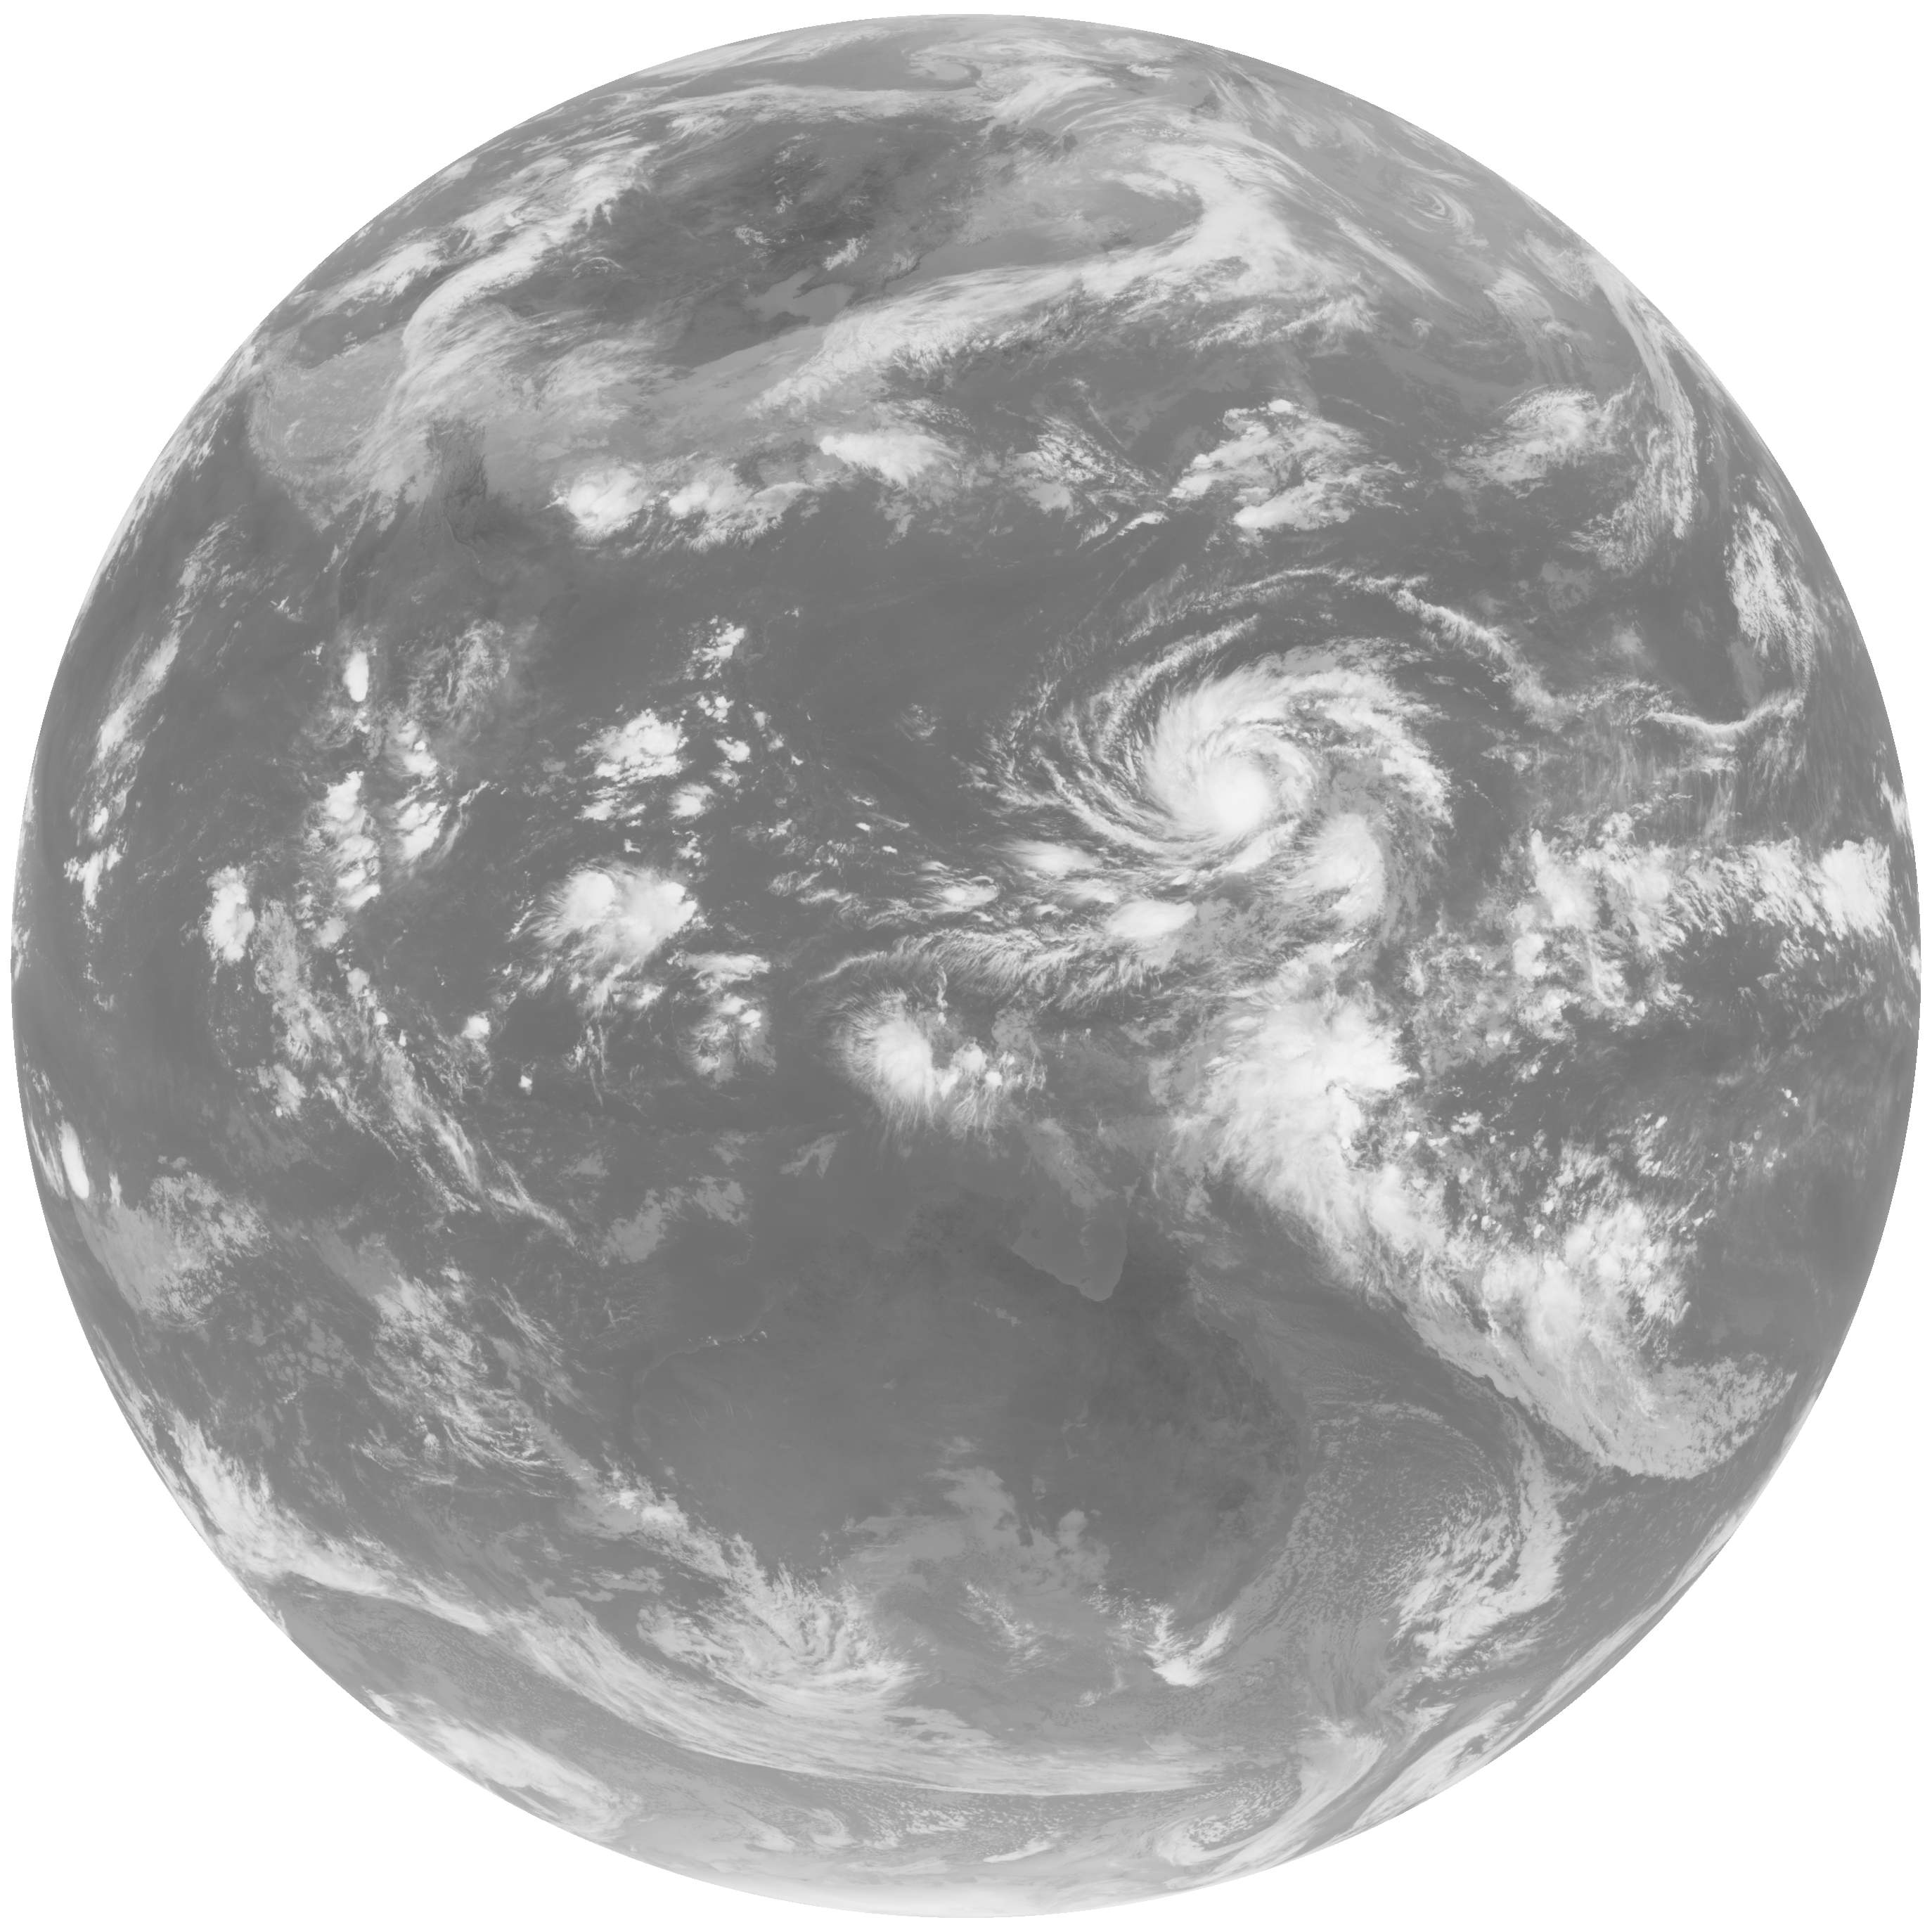typhoon: (1026, 579, 1453, 948)
